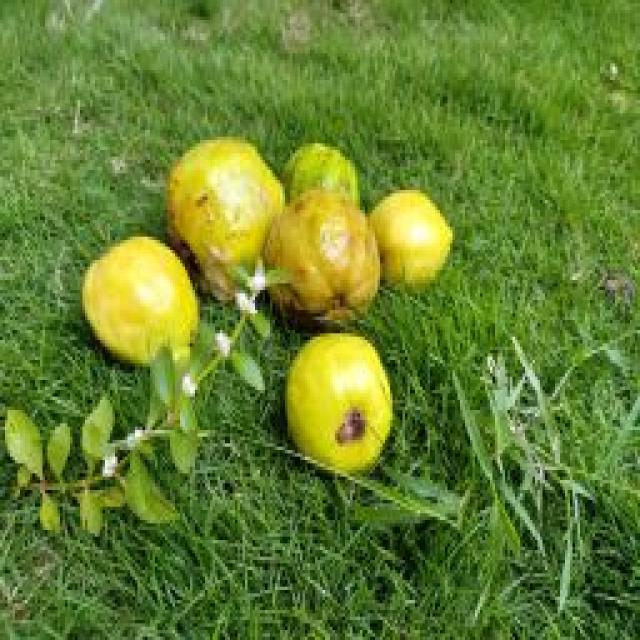Organik: (169, 122, 290, 287), (276, 320, 405, 472), (78, 230, 204, 372), (271, 197, 386, 329), (280, 117, 364, 209)
